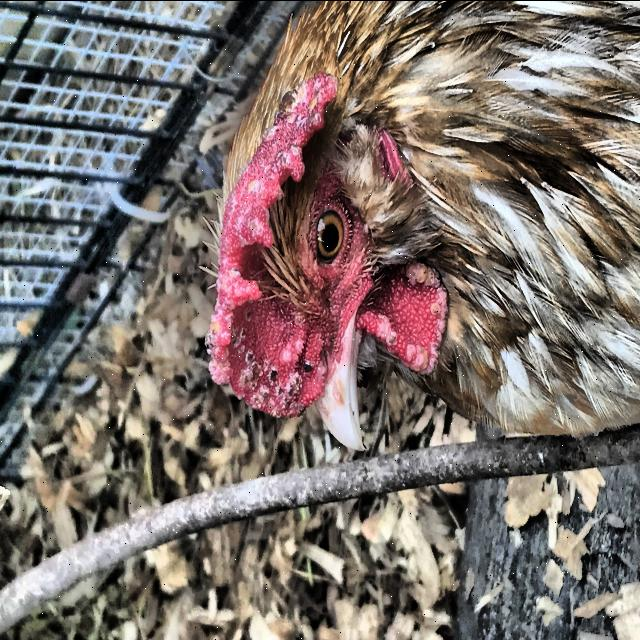Fowlpox: (187, 84, 457, 452)
